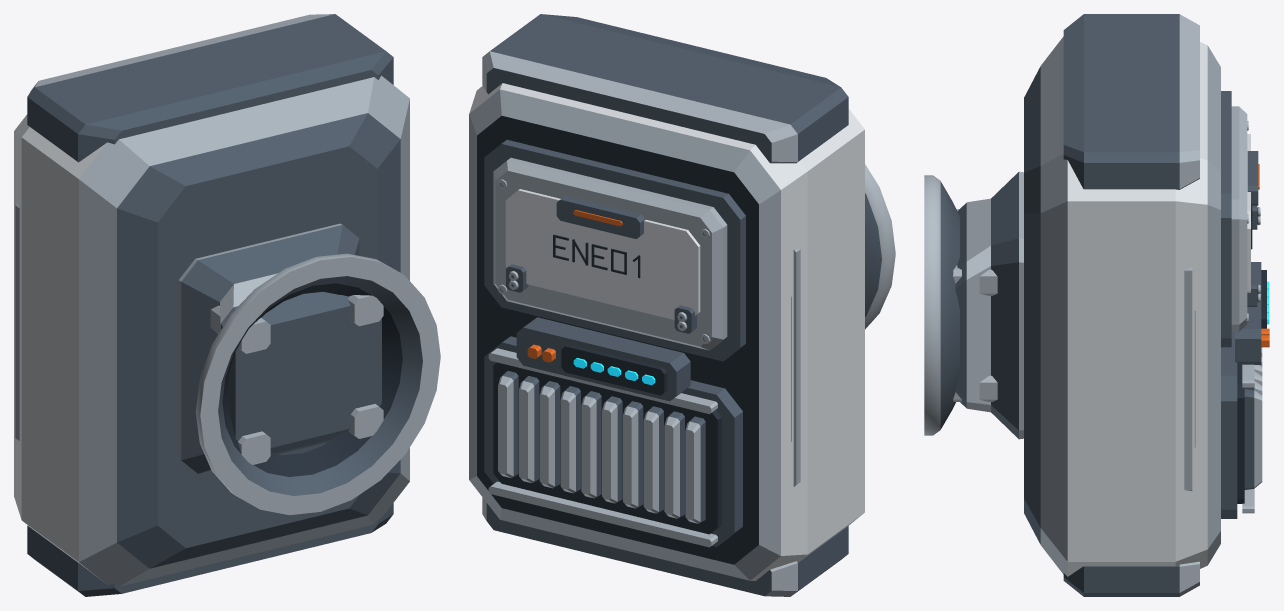
Rendered from energia_p01.glb.
3 views of the same model, side by side, from view 1: azimuth 30°, elevation 25°; view 2: azimuth 150°, elevation 25°; view 3: azimuth 270°, elevation 25° (orthographic). The views are drawn at different scales.
Visible parts, largest first — view 1: ENE-P01 | Carcasa cerámica y protecciones, ENE-P01 | Brida axial y soporte de montaje; view 2: ENE-P01 | Carcasa cerámica y protecciones, ENE-P01 | Tapa de acceso y cierres, ENE-P01 | Disipador y aletas, ENE-P01 | Indicadores cian e identificación, ENE-P01 | Brida axial y soporte de montaje; view 3: ENE-P01 | Carcasa cerámica y protecciones, ENE-P01 | Brida axial y soporte de montaje, ENE-P01 | Tapa de acceso y cierres, ENE-P01 | Disipador y aletas, ENE-P01 | Indicadores cian e identificación.
Boxes of the visible parts, x1,y1,x2,y2 form: ENE-P01 | Carcasa cerámica y protecciones: [14, 14, 409, 596]; ENE-P01 | Brida axial y soporte de montaje: [178, 223, 440, 515]; ENE-P01 | Carcasa cerámica y protecciones: [469, 14, 864, 596]; ENE-P01 | Tapa de acceso y cierres: [484, 139, 745, 361]; ENE-P01 | Disipador y aletas: [484, 336, 742, 547]; ENE-P01 | Indicadores cian e identificación: [516, 234, 690, 401]; ENE-P01 | Brida axial y soporte de montaje: [865, 164, 895, 329]; ENE-P01 | Carcasa cerámica y protecciones: [1024, 14, 1220, 596]; ENE-P01 | Brida axial y soporte de montaje: [924, 171, 1023, 439]; ENE-P01 | Tapa de acceso y cierres: [1221, 91, 1260, 347]; ENE-P01 | Disipador y aletas: [1221, 332, 1262, 518]; ENE-P01 | Indicadores cian e identificación: [1235, 205, 1269, 364].
Size of the model in its own units: 0.892 by 1.22 by 0.855.
